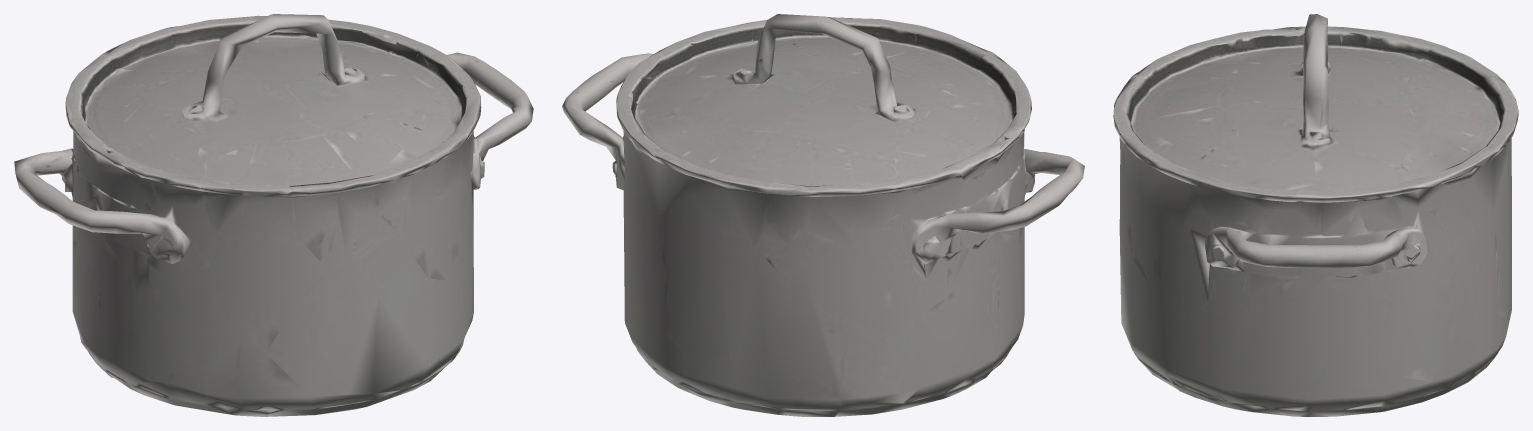
Rendered from skyways-stock-pot.glb.
The picture shows the model from 3 angles, left to right: view 1: azimuth 30°, elevation 25°; view 2: azimuth 150°, elevation 25°; view 3: azimuth 270°, elevation 25°; orthographic projection. The views are drawn at different scales.
Parts seen in each view (by area): view 1: skyways-stock-pot; view 2: skyways-stock-pot; view 3: skyways-stock-pot.
Boxes of the visible parts, bbox=[...] form: skyways-stock-pot: bbox=[14, 14, 533, 416]; skyways-stock-pot: bbox=[562, 14, 1084, 416]; skyways-stock-pot: bbox=[1113, 14, 1518, 416].
Size of the model in its own units: 0.42 by 0.2726 by 0.3192.
Materials: 1 (1 with a texture image).
